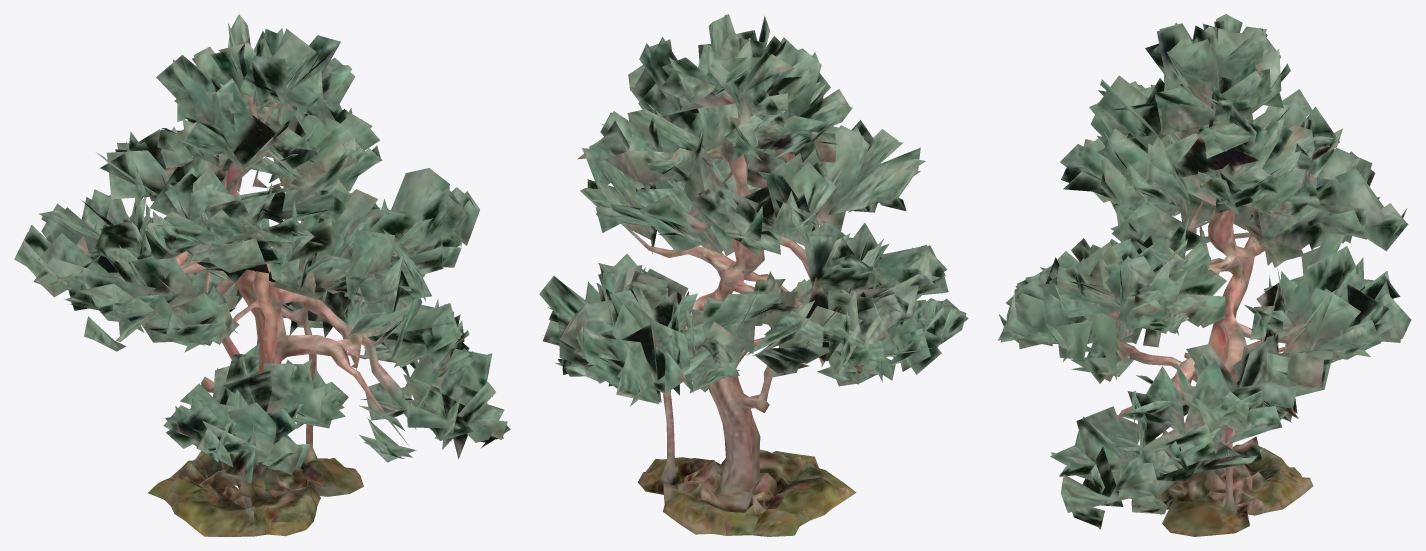
File: bonsaitree.glb
3 renders of one model, left to right at view 1: azimuth 30°, elevation 25°; view 2: azimuth 150°, elevation 25°; view 3: azimuth 270°, elevation 25°, orthographic.
Visible parts, largest first — view 1: mesh_node; view 2: mesh_node; view 3: mesh_node.
Boxes of the visible parts, x1,y1,x2,y2 form: mesh_node: (14,14,510,536); mesh_node: (539,14,968,536); mesh_node: (997,14,1411,536).
Bounding box in the file's own units: 0.9023 × 1 × 0.8047.
Materials: 1 (1 with a texture image).
